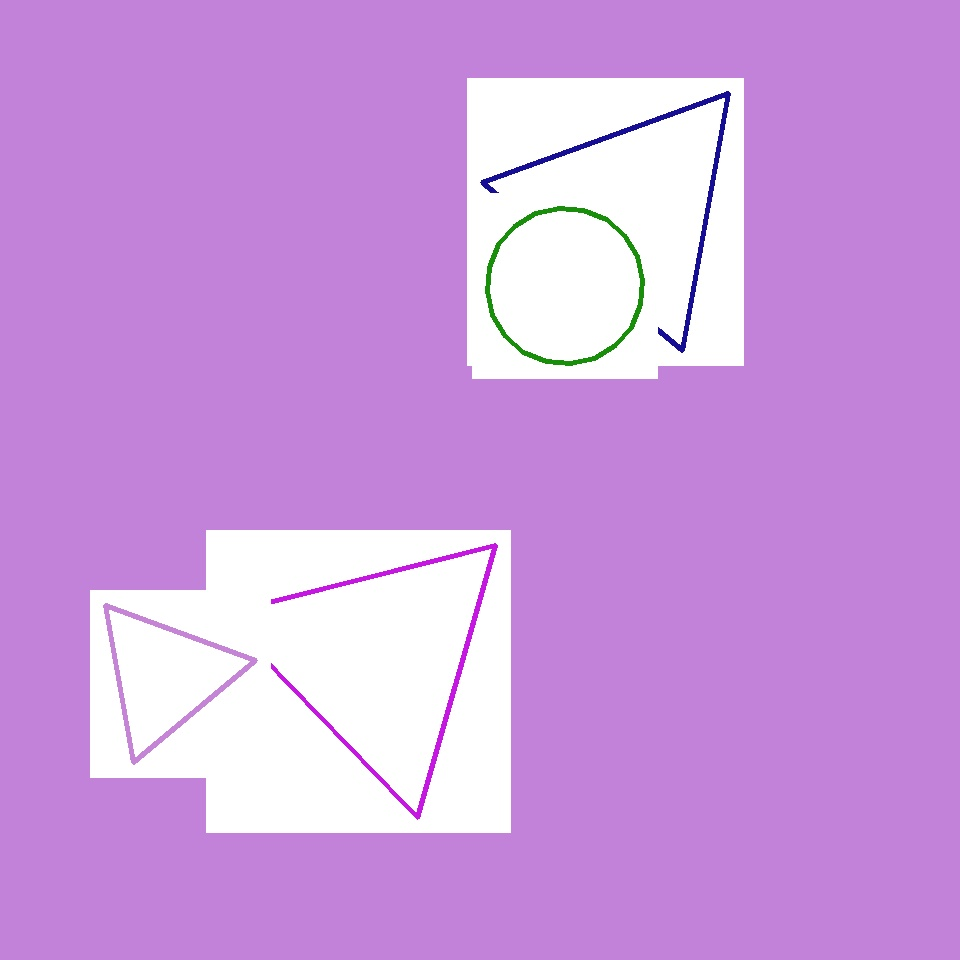circle: (241, 523, 515, 795), (508, 80, 754, 338), (479, 556, 685, 770), (90, 598, 240, 755), (220, 166, 372, 318)
square: (654, 740, 846, 932)
triangle: (488, 208, 642, 364)
